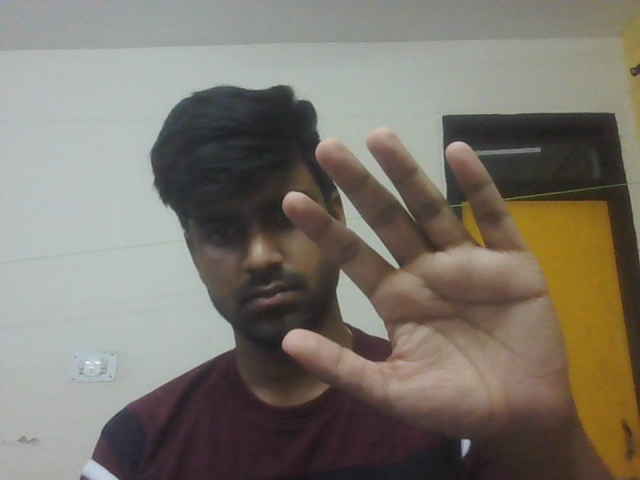hello: (275, 121, 589, 447)
